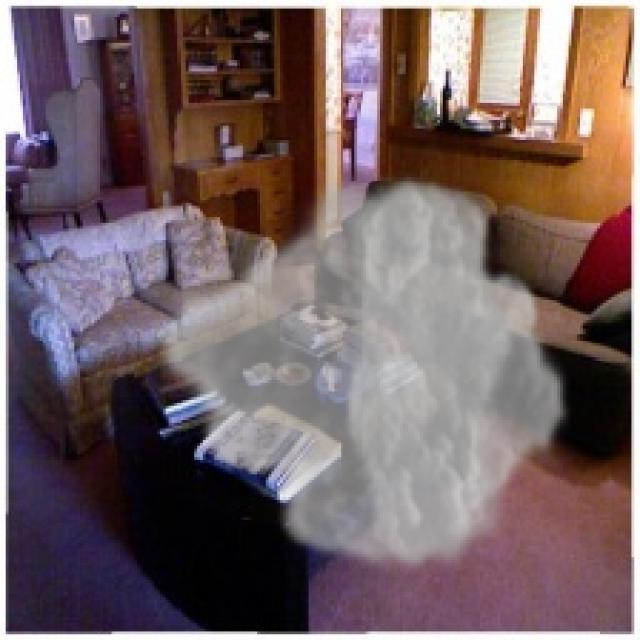Smoke: (152, 165, 572, 580)
